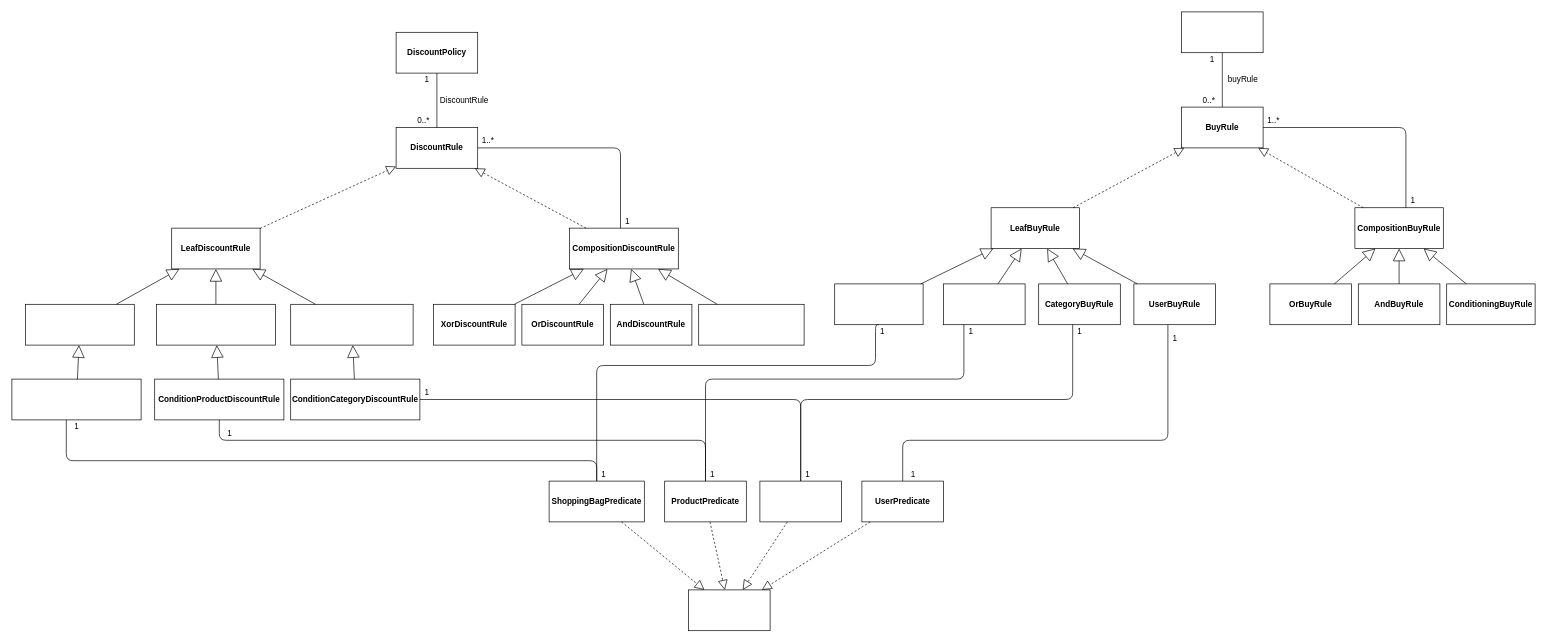
The diagram is 1547 pixels wide and 643 high, and some of its shapes have lost their labels. Each missing label, with the centre of its shape:
"AddDiscountRule" goes at (751,324).
"BuyPolicy" goes at (1222,32).
"CategoryPredicate" goes at (800,501).
"ConditionStoreDiscountRule" goes at (76,399).
"Predicate" goes at (729,610).
"ProductBuyRule" goes at (984,304).
"ShoppingBagBuyRule" goes at (878,304).
"SimpleCategoryDiscountRule" goes at (351,324).
"SimpleProductDiscountRule" goes at (215,324).
"SimpleStoreDiscountRule" goes at (79,324).
